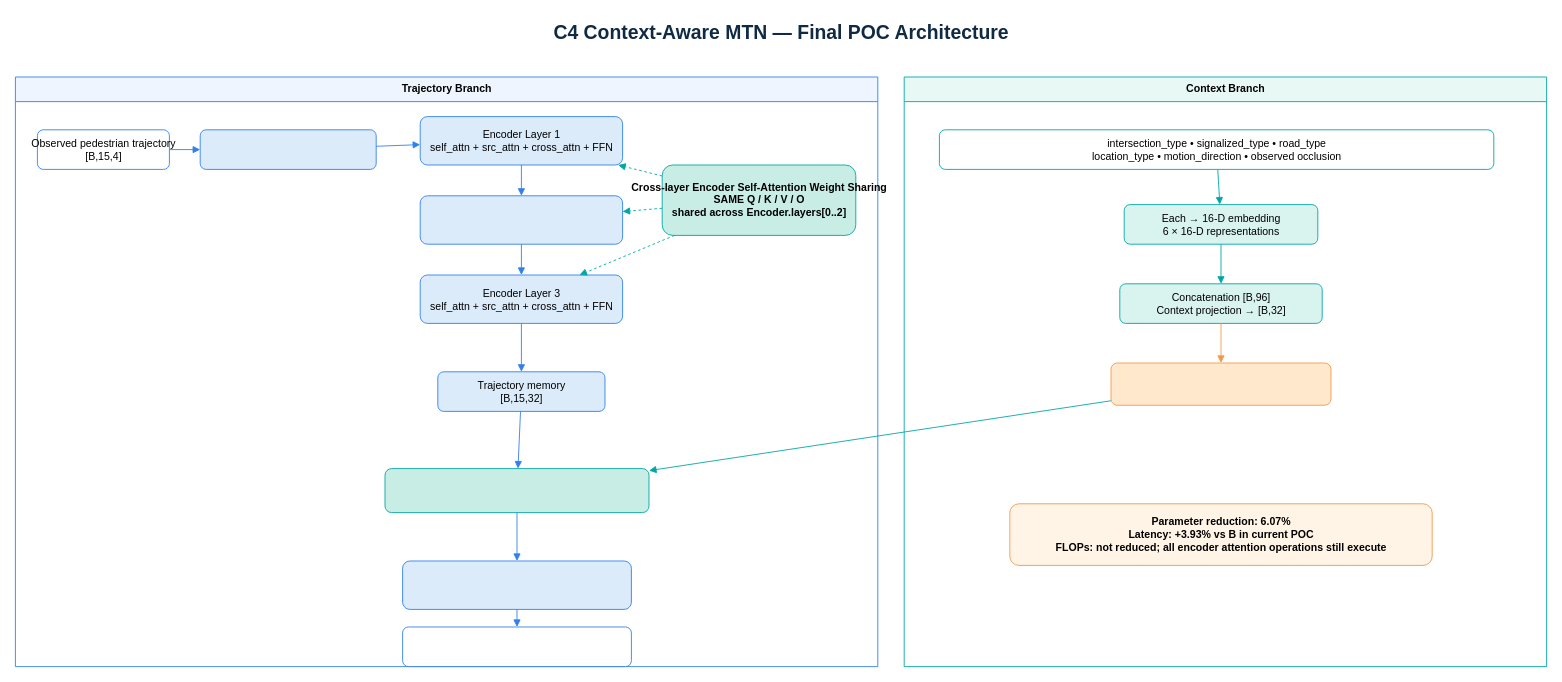
Image size: 1562x682. Some labels were removed from this diagram. The box of each missing label's shape, as (x1, y1, x2, y2) in pixels:
Append gated context token Augmented decoder memory [B,16,32]: (384, 468, 649, 513)
Encoder Layer 2 self_attn + src_attn + cross_attn + FFN: (419, 195, 623, 244)
MTN Decoder ×3 unchanged src_attn / flow attention / FFN: (402, 560, 631, 609)
Original context admission gate Gated context token [B,1,32]: (1110, 362, 1331, 405)
Output head + residual Future trajectory [B,45,4]: (402, 626, 631, 667)
Source embedding + positional encoding [B,15,32]: (199, 129, 376, 169)
